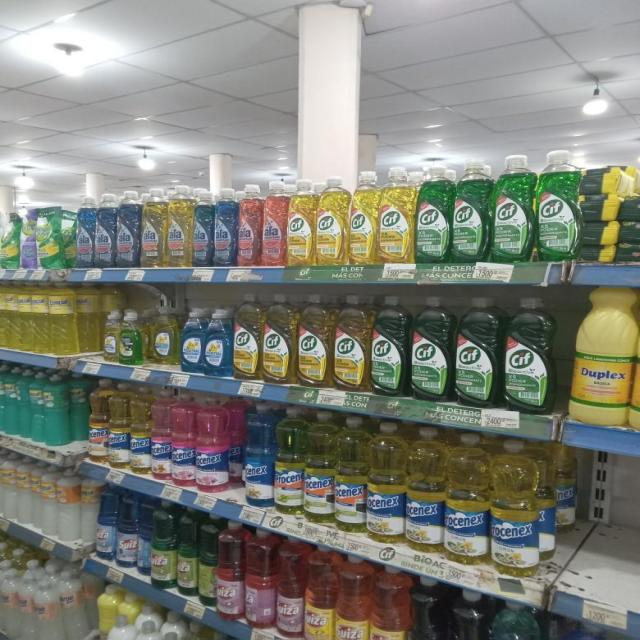ala_conc_amarillo: (167, 185, 192, 268), (142, 187, 166, 268)
ala_conc_azul: (213, 187, 237, 267), (116, 189, 140, 268), (192, 188, 213, 267), (96, 192, 116, 268), (76, 194, 95, 269)
ala_conc_rojo: (262, 180, 286, 267), (238, 183, 262, 267)
cif_conc_bot_amarilla: (379, 166, 414, 264), (334, 294, 369, 392), (297, 293, 332, 388), (262, 292, 296, 385), (316, 175, 348, 266), (349, 170, 378, 266), (233, 293, 261, 382), (286, 178, 314, 267)
cif_conc_botella_verde: (502, 295, 556, 414), (454, 296, 501, 408), (536, 150, 579, 262), (492, 153, 534, 263), (410, 295, 452, 403), (452, 157, 489, 263), (371, 294, 408, 398), (415, 161, 451, 264)
esencial: (49, 281, 76, 355), (15, 281, 32, 352), (32, 281, 48, 353), (0, 280, 16, 349)
heroe: (18, 566, 36, 640)
magistral_con_amarillo: (150, 307, 178, 367)
magistral_con_azul: (204, 308, 231, 378), (180, 307, 203, 374)
